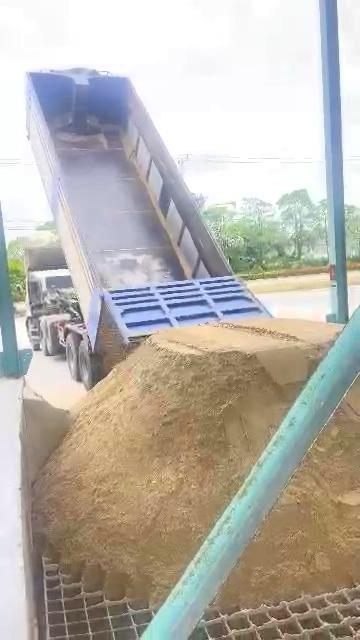sand: (35, 320, 338, 602), (220, 380, 360, 605), (22, 389, 70, 484)
